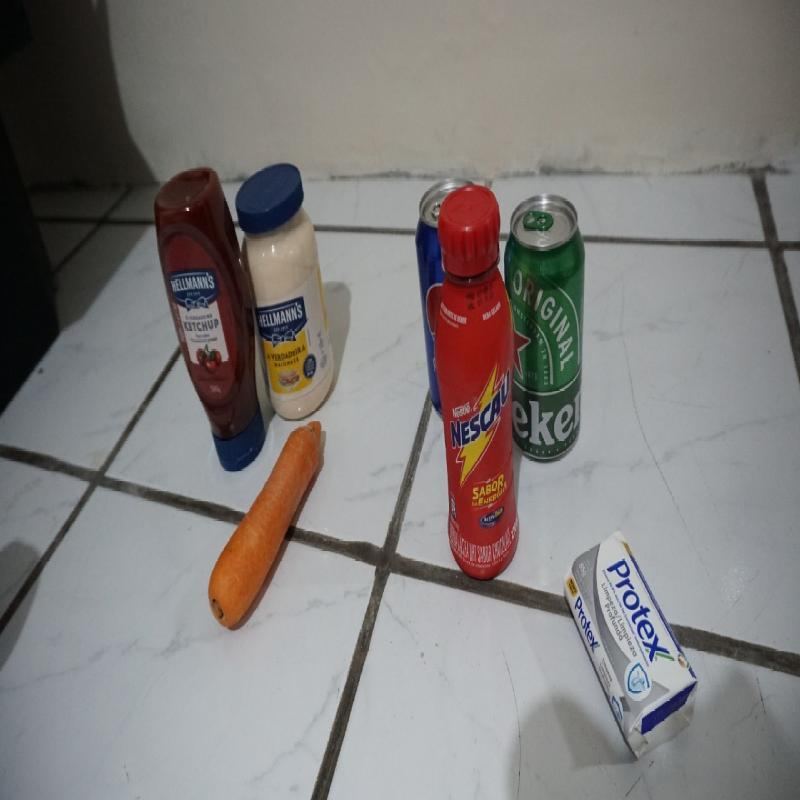Beer can: (511, 191, 585, 462)
Carrot: (209, 427, 320, 632)
Chocolate Milk: (438, 191, 518, 576)
Ketchup: (152, 171, 250, 480)
Mayonnaise: (240, 168, 336, 412)
Soap: (564, 531, 699, 756)
Soda can: (416, 191, 444, 426)
